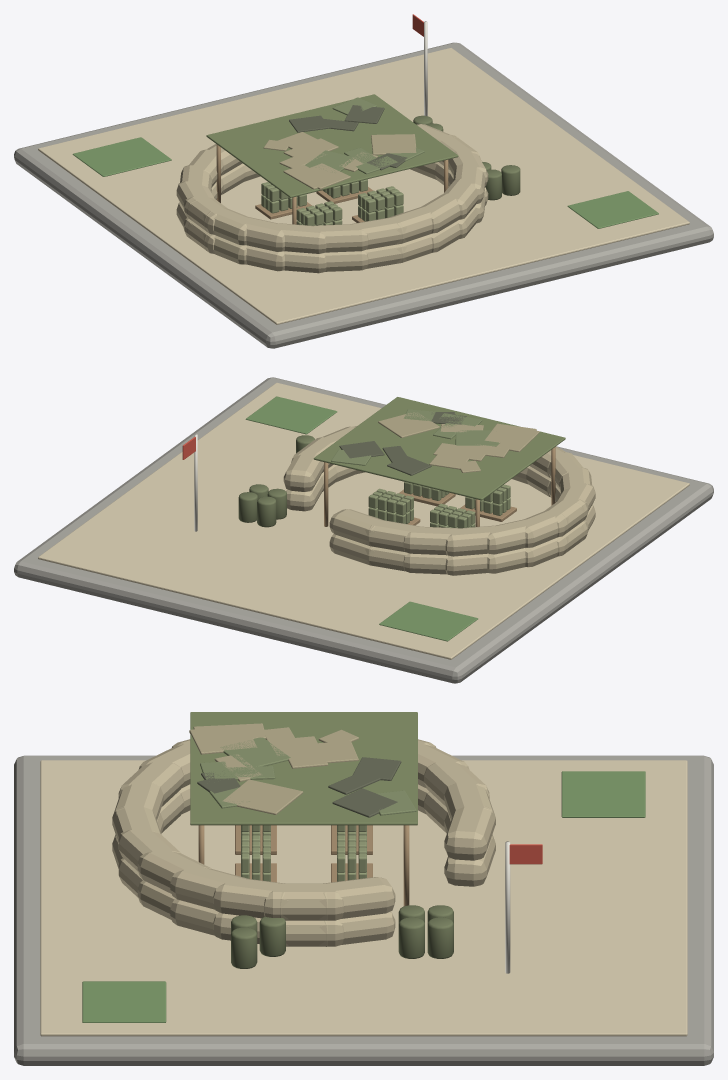
Rendered from fueldepot_1.glb.
3 views of the same model, one above another, from view 1: azimuth 30°, elevation 25°; view 2: azimuth 150°, elevation 25°; view 3: azimuth 270°, elevation 25° (orthographic). The views are drawn at different scales.
Visible parts, largest first — view 1: Cube.001, Cube, Cube.104, Cube.002, Cube.003, Cube.148, Cube.146, Cube.144, Cube.150, Cube.142, Cube.152, Cube.140 (+21 smaller); view 2: Cube.001, Cube, Cube.104, Cube.002, Cube.003, Cube.128, Cube.134, Cube.126, Cube.132, Cube.136, Cube.130, Cube.138 (+20 smaller); view 3: Cube.001, Cube, Cube.104, Cube.002, Cube.003, Cube.124, Cube.128, Cube.126, Cube.160, Cube.158, Cube.118, Cube.156 (+32 smaller).
Boxes of the visible parts, bbox=[...] form: Cube.001: bbox=[38, 48, 689, 324]; Cube: bbox=[14, 42, 713, 348]; Cube.104: bbox=[206, 94, 458, 197]; Cube.002: bbox=[72, 137, 171, 176]; Cube.003: bbox=[567, 191, 658, 228]; Cube.148: bbox=[313, 224, 368, 252]; Cube.146: bbox=[277, 223, 326, 253]; Cube.144: bbox=[239, 217, 286, 251]; Cube.150: bbox=[350, 217, 406, 249]; Cube.142: bbox=[203, 207, 252, 245]; Cube.152: bbox=[389, 206, 432, 243]; Cube.140: bbox=[183, 194, 227, 234]; Cube.001: bbox=[38, 382, 689, 659]; Cube: bbox=[14, 377, 713, 683]; Cube.104: bbox=[313, 397, 565, 500]; Cube.002: bbox=[379, 601, 478, 641]; Cube.003: bbox=[245, 396, 337, 434]; Cube.128: bbox=[329, 509, 383, 546]; Cube.134: bbox=[445, 525, 496, 556]; Cube.126: bbox=[283, 450, 323, 491]; Cube.132: bbox=[403, 526, 458, 555]; Cube.136: bbox=[487, 519, 532, 554]; Cube.130: bbox=[365, 520, 420, 551]; Cube.138: bbox=[521, 509, 568, 547]; Cube.001: bbox=[40, 760, 687, 1036]; Cube: bbox=[14, 755, 713, 1065]; Cube.104: bbox=[190, 712, 417, 825]; Cube.002: bbox=[561, 771, 645, 817]; Cube.003: bbox=[82, 981, 166, 1022]; Cube.124: bbox=[264, 883, 344, 920]; Cube.128: bbox=[444, 805, 495, 860]; Cube.126: bbox=[319, 877, 395, 920]; Cube.160: bbox=[213, 879, 288, 919]; Cube.158: bbox=[170, 864, 248, 909]; Cube.118: bbox=[222, 779, 303, 814]; Cube.156: bbox=[137, 851, 211, 893].
Size of the model in its own units: 2.92 by 0.715 by 2.92.
